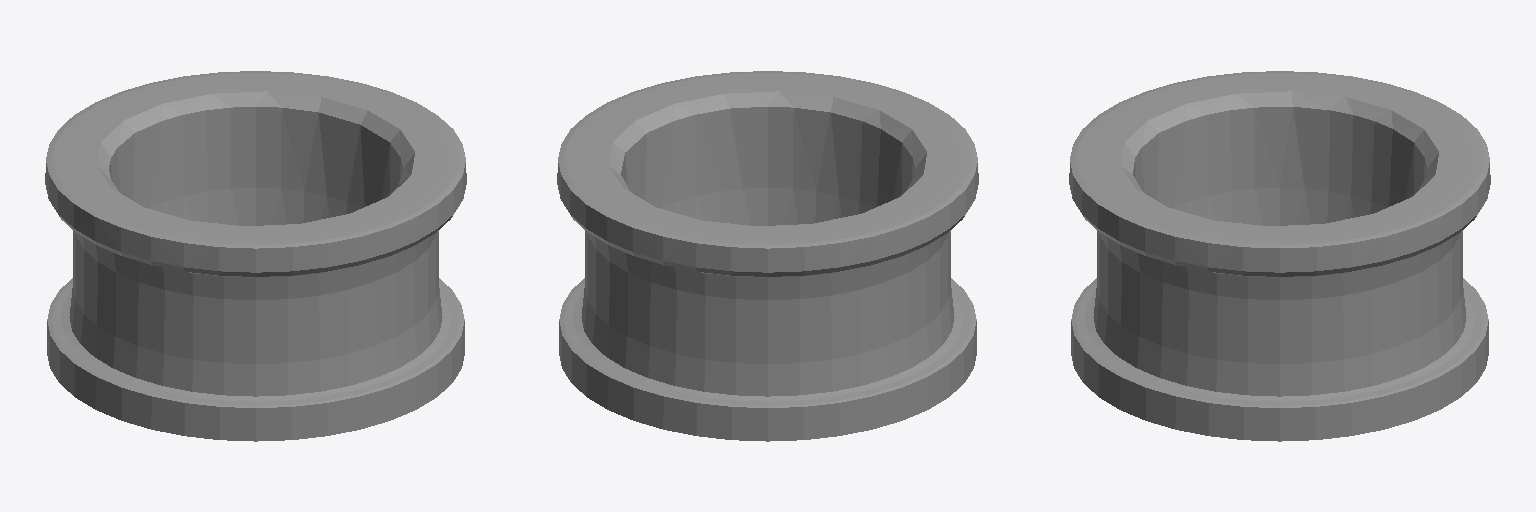
Rendered from well_lower.obj.
3 renders of one model, left to right at view 1: azimuth 30°, elevation 25°; view 2: azimuth 150°, elevation 25°; view 3: azimuth 270°, elevation 25°, orthographic.
Size of the model in its own units: 11.96 by 6.08 by 11.96.